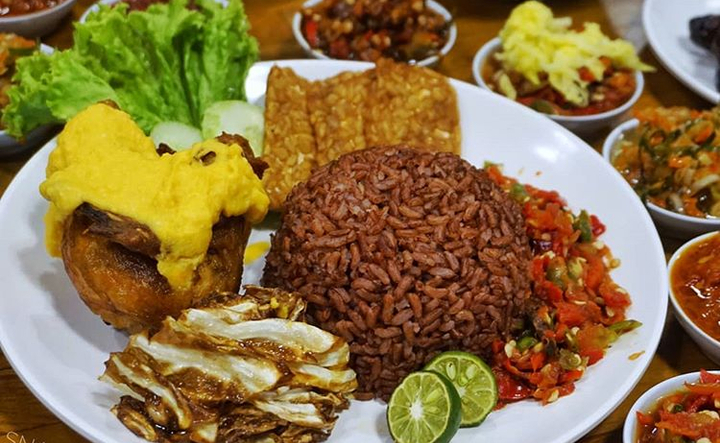Nasi Merah: (276, 155, 529, 361)
